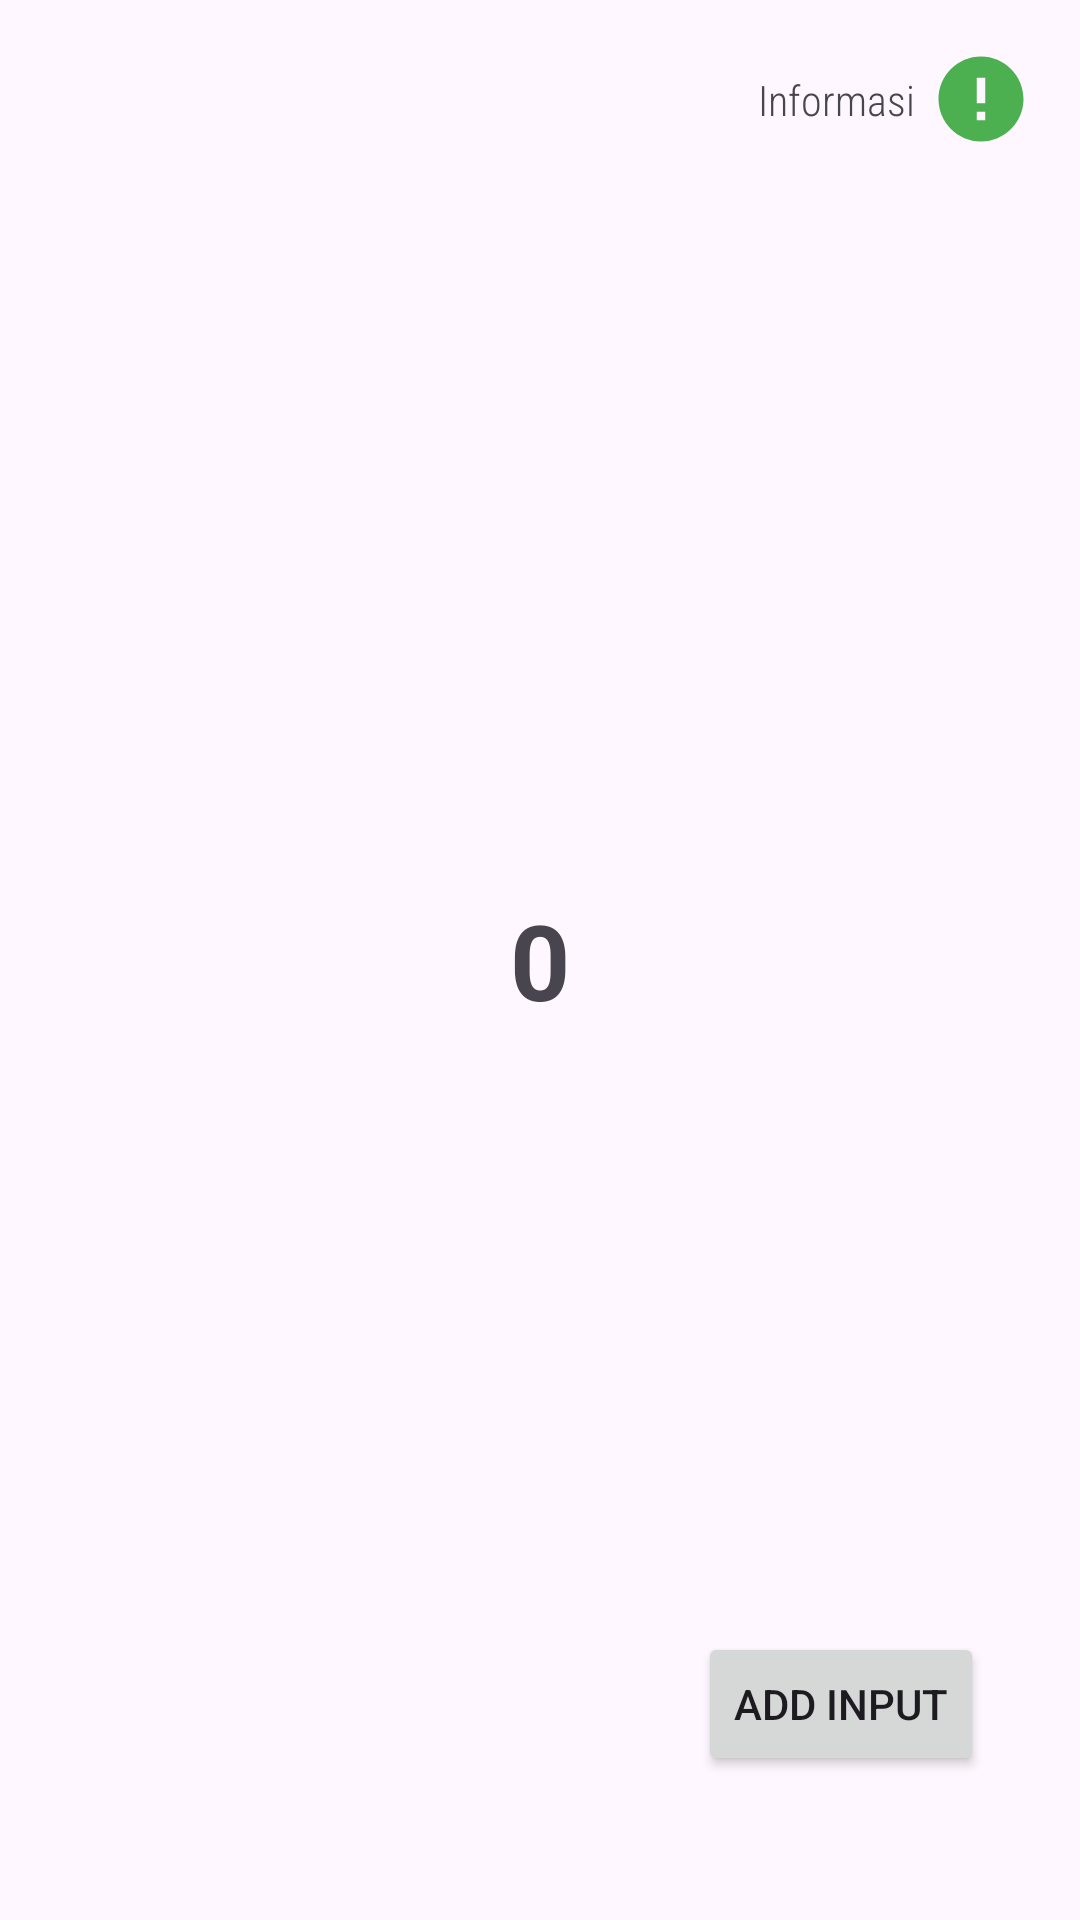

Where to tap for icons on this 1080x1920 app screen, as point (x, y):
error: point (981, 99)
